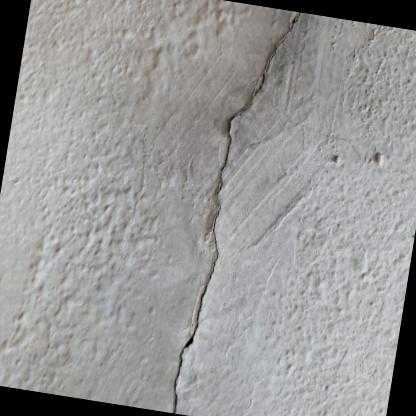crack: (171, 11, 299, 413)
